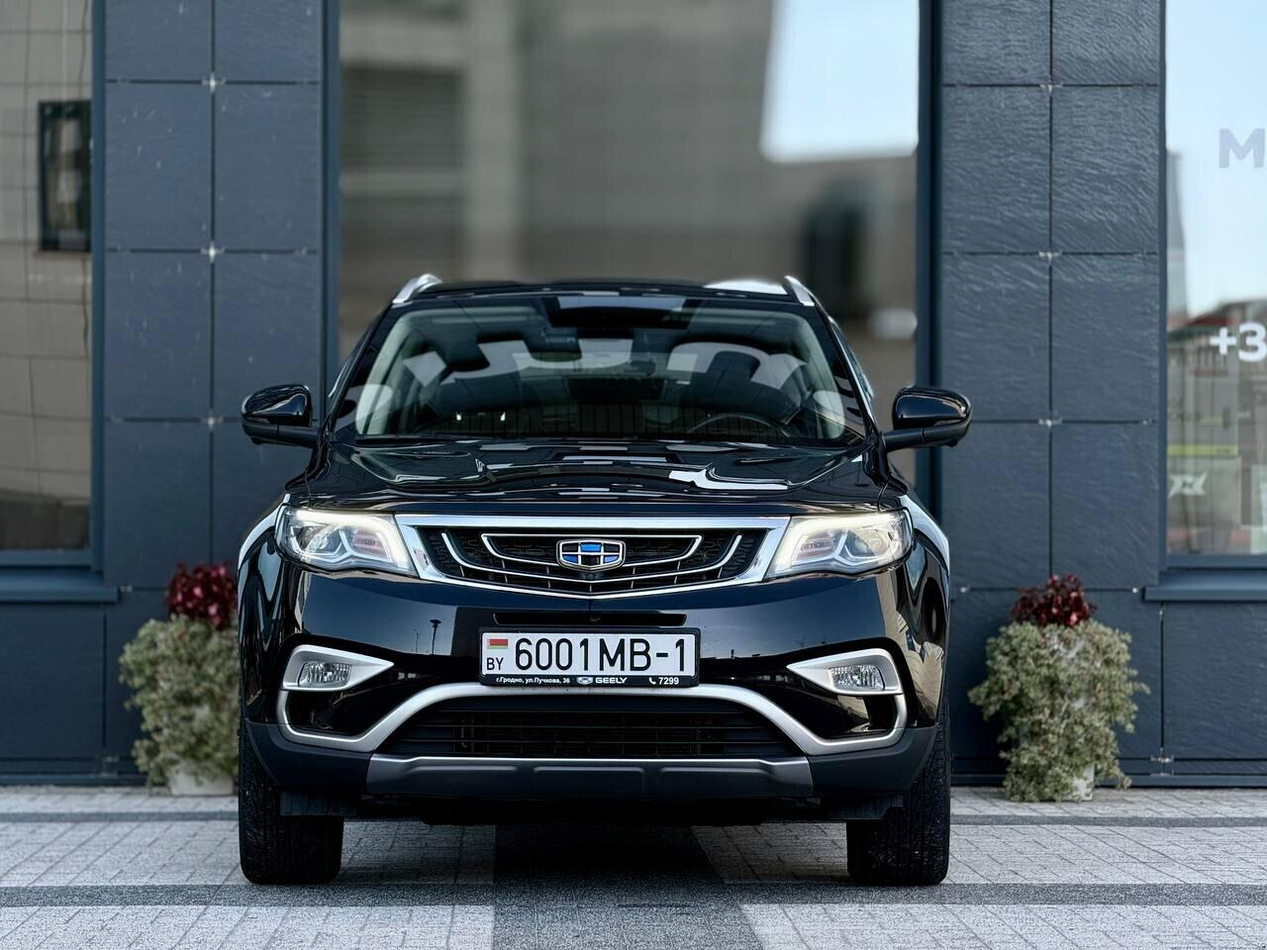Atlas_2016-2023: (225, 276, 975, 891)
